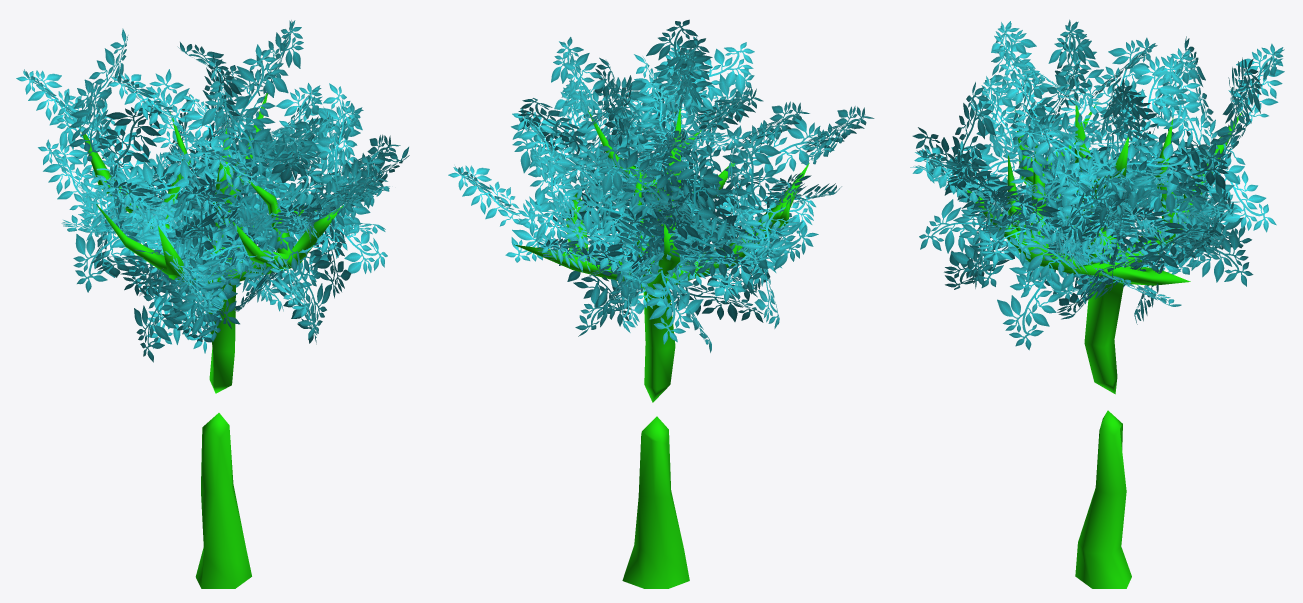
File: CrystalTree.fbx
The picture shows the model from 3 angles, left to right: view 1: azimuth 30°, elevation 25°; view 2: azimuth 150°, elevation 25°; view 3: azimuth 270°, elevation 25°; orthographic projection.
Parts seen in each view (by area): view 1: IceLeaf.002, Cylinder; view 2: IceLeaf.002, Cylinder; view 3: IceLeaf.002, Cylinder.
Part boxes in pixels (x1,y1,x2,y2): IceLeaf.002: (16,20,409,362); Cylinder: (80,93,343,588); IceLeaf.002: (448,19,874,352); Cylinder: (514,108,809,588); IceLeaf.002: (910,19,1284,350); Cylinder: (967,100,1242,588).
Bounding box in the file's own units: 51.27 × 78.06 × 49.5.
